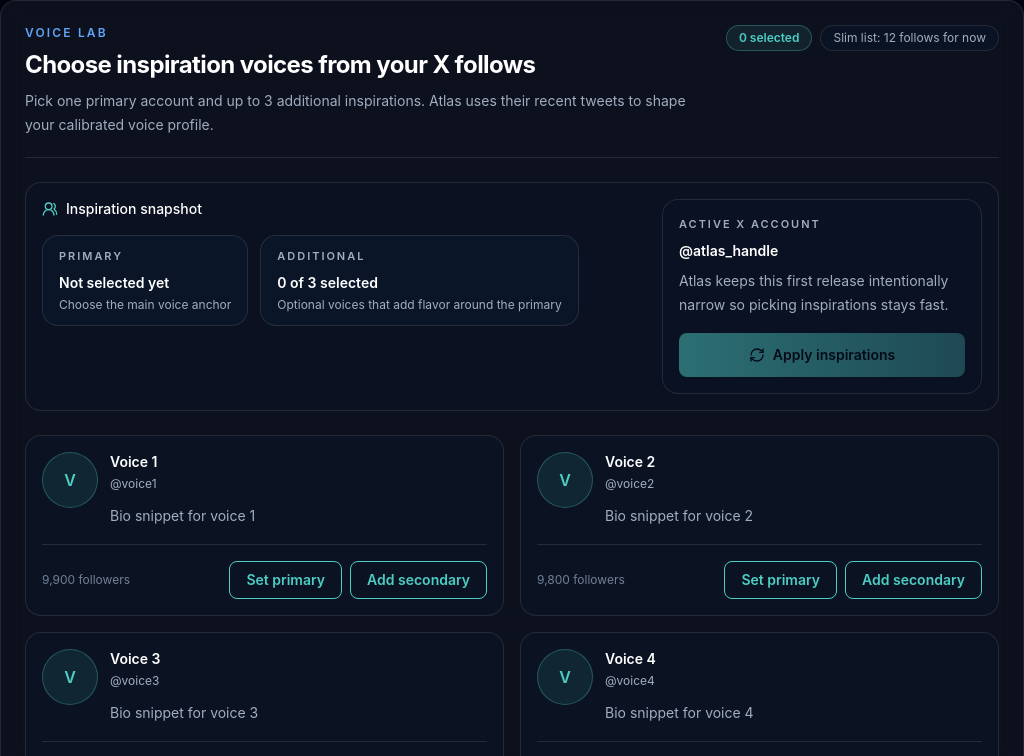
Test: VoiceLabInspirationPicker › renders a slim follow list and saves the selected inspiration mix
Check: the text "Voice 1" is shown, box x1=110 y1=452 x2=158 y2=472
Check: the text "Bio snippet for voice 1" is shown, box x1=110 y1=506 x2=255 y2=524
Click the button "Set primary" in the row of "9,900" at (286, 580), box x1=230 y1=560 x2=342 y2=598
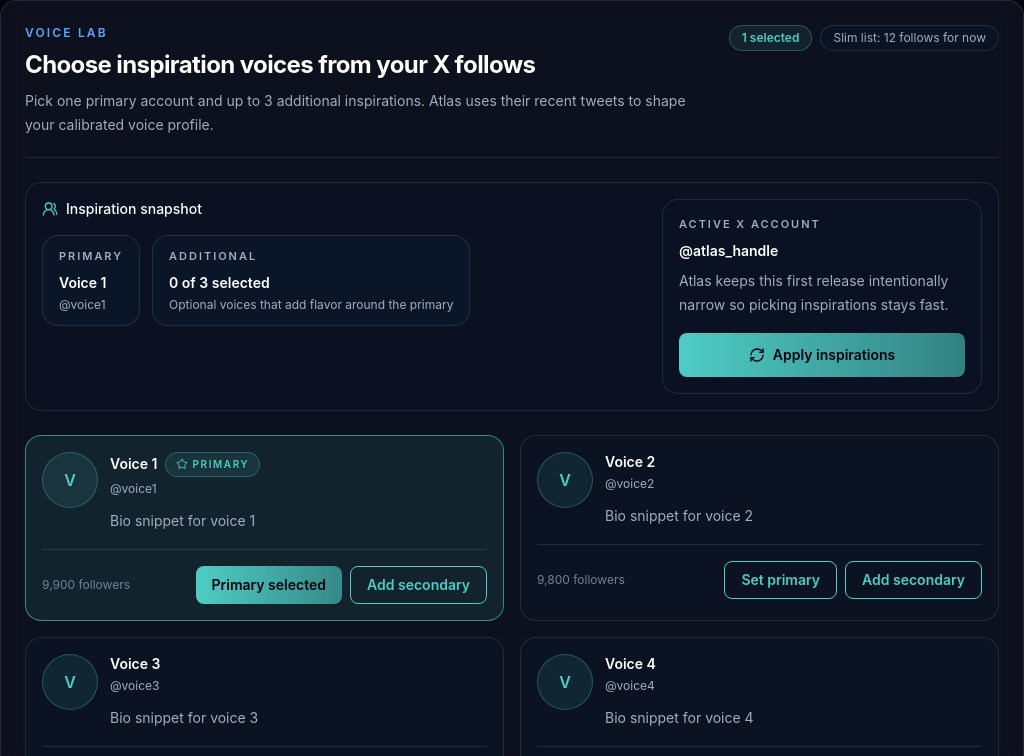
Click the button "Add secondary" in the row of "9,800" at (914, 580), box x1=845 y1=560 x2=982 y2=598
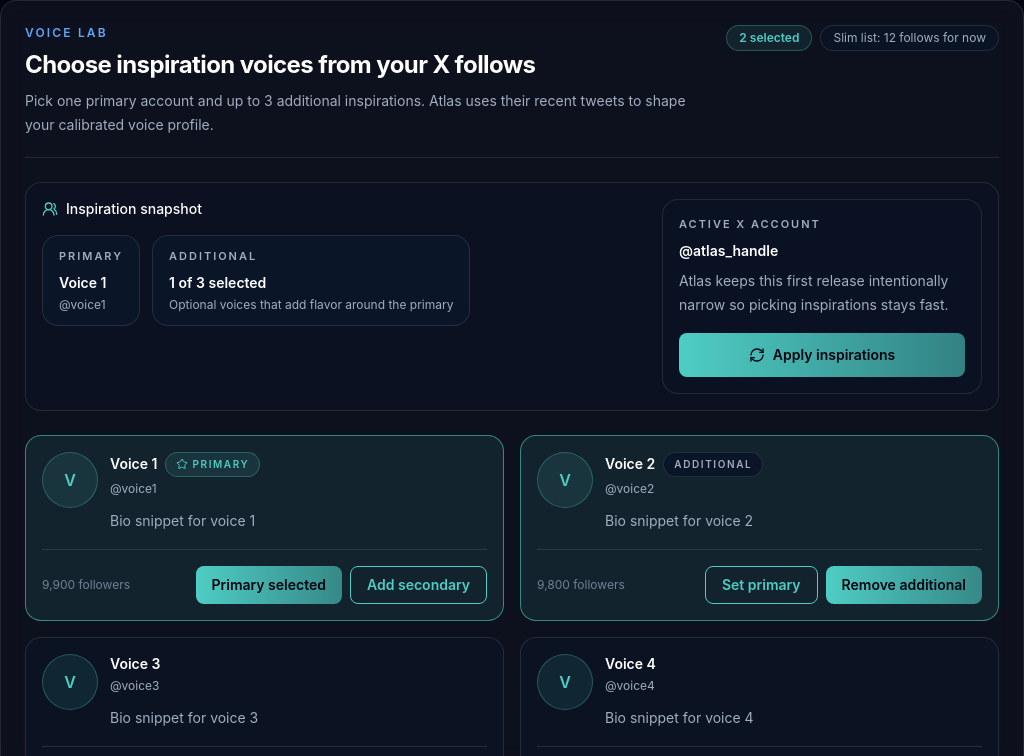
Check: the button "Apply inspirations" is enabled
Click the button "Apply inspirations" at (822, 354), box x1=679 y1=332 x2=965 y2=376
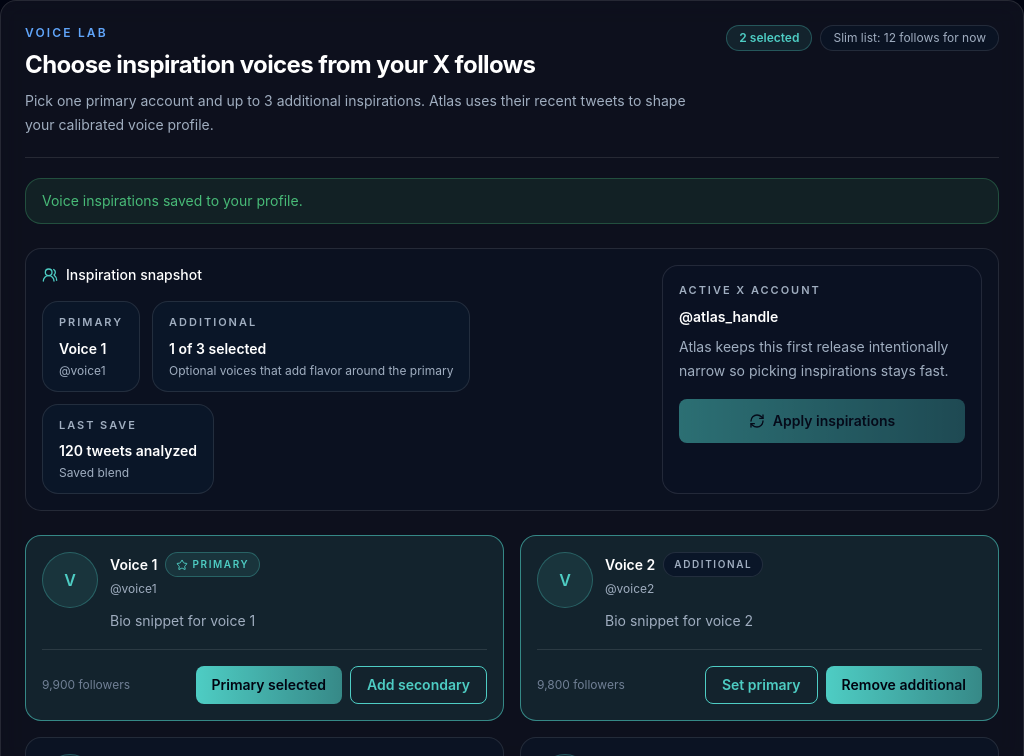
Check: the text "Voice inspirations saved to your profile." is shown, box x1=25 y1=178 x2=999 y2=224
